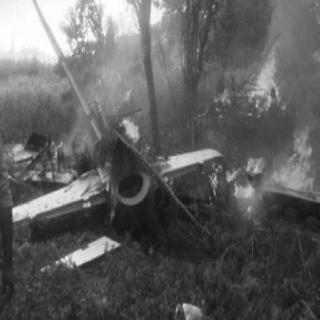Fire: (206, 144, 266, 218), (268, 121, 316, 192), (210, 86, 228, 108), (50, 136, 64, 156)
Smoke: (281, 10, 309, 62), (104, 48, 132, 98)
